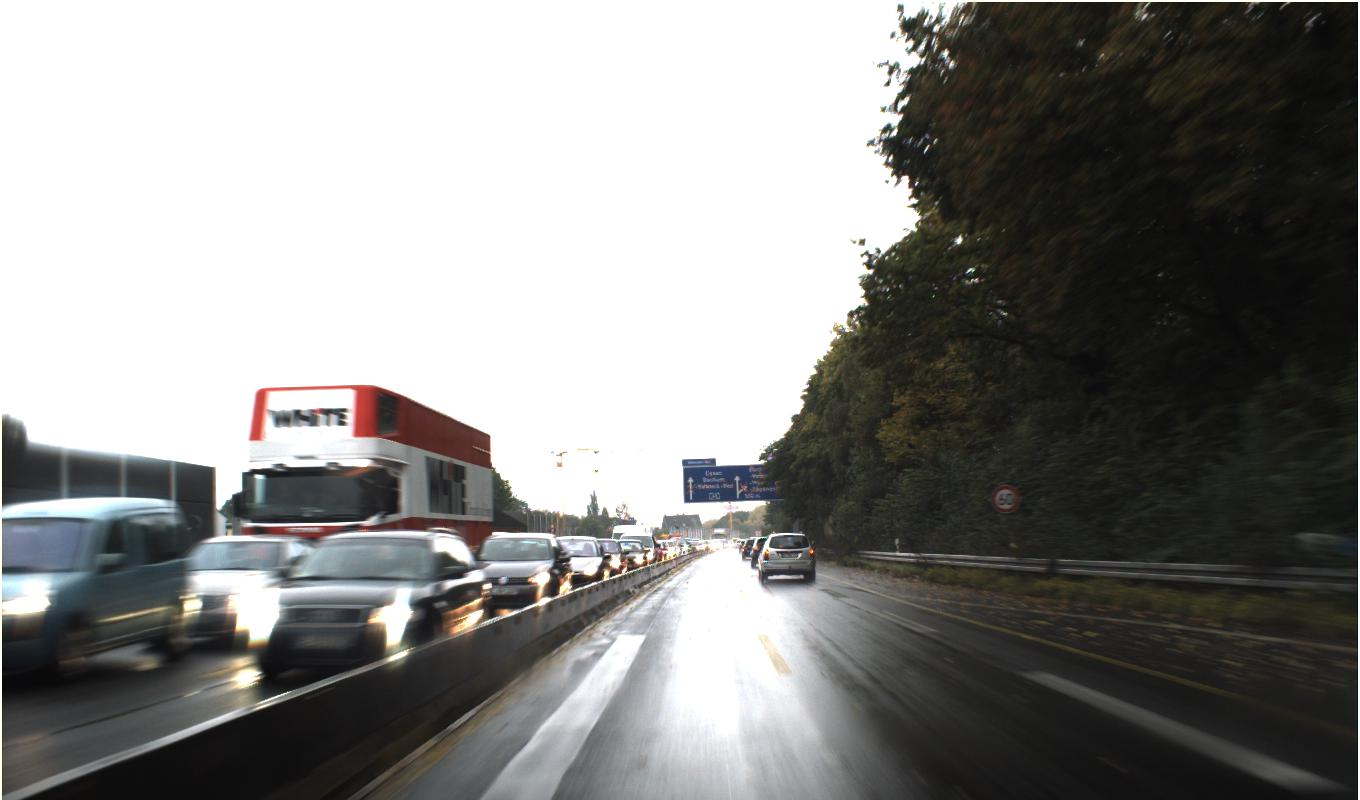prohibitory: (990, 484, 1020, 513)
